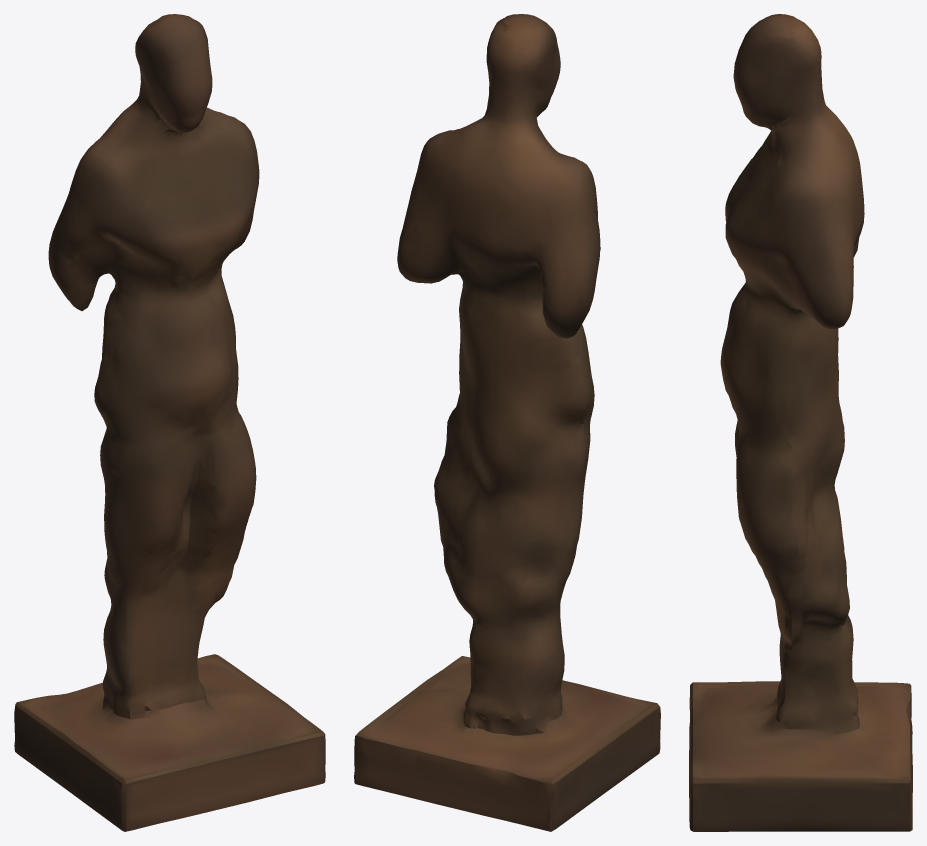
Rendered from GenStatue_2.fbx.
3 views of the same model, side by side, from view 1: azimuth 30°, elevation 25°; view 2: azimuth 150°, elevation 25°; view 3: azimuth 270°, elevation 25° (orthographic). The views are drawn at different scales.
Visible parts, largest first — view 1: example_mesh_3; view 2: example_mesh_3; view 3: example_mesh_3.
Part boxes in pixels (x1,y1,x2,y2): example_mesh_3: (14, 14, 325, 831); example_mesh_3: (354, 14, 660, 831); example_mesh_3: (689, 14, 912, 831).
Bounding box in the file's own units: 56.27 × 198 × 52.78.
